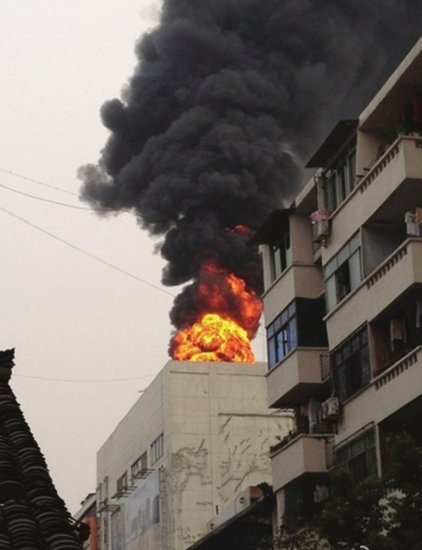fire: (170, 309, 255, 363)
